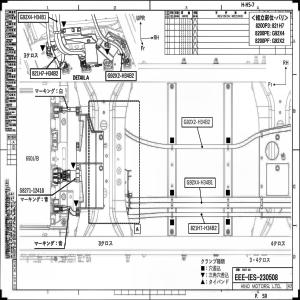PartNumber: (20, 13, 48, 21), (190, 224, 218, 232), (32, 69, 59, 77), (183, 118, 210, 126), (186, 179, 214, 186), (20, 186, 44, 194), (107, 72, 135, 78)
